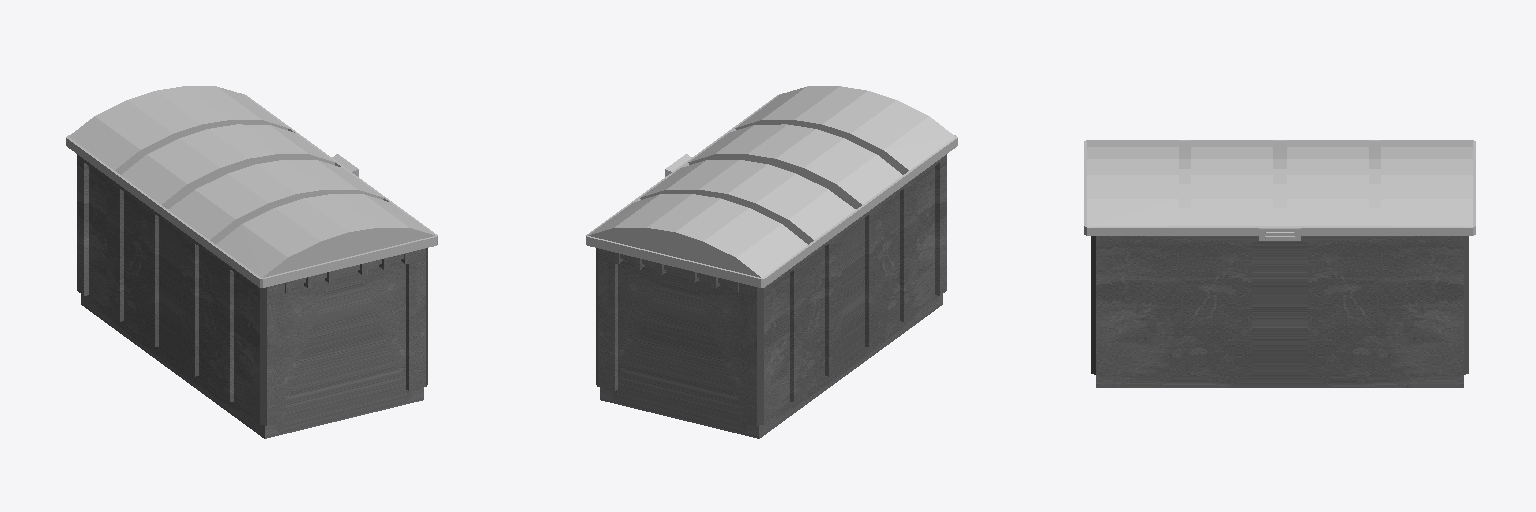
3 renders of one model, left to right at view 1: azimuth 30°, elevation 25°; view 2: azimuth 150°, elevation 25°; view 3: azimuth 270°, elevation 25°, orthographic.
Parts seen in each view (by area): view 1: ダストボックス; view 2: ダストボックス; view 3: ダストボックス.
Boxes of the visible parts, x1,y1,x2,y2 form: ダストボックス: [66, 86, 437, 438]; ダストボックス: [586, 86, 957, 438]; ダストボックス: [1084, 140, 1475, 387].
Bounding box in the file's own units: 11.69 × 11.45 × 21.3.
2 materials, 1 textured.